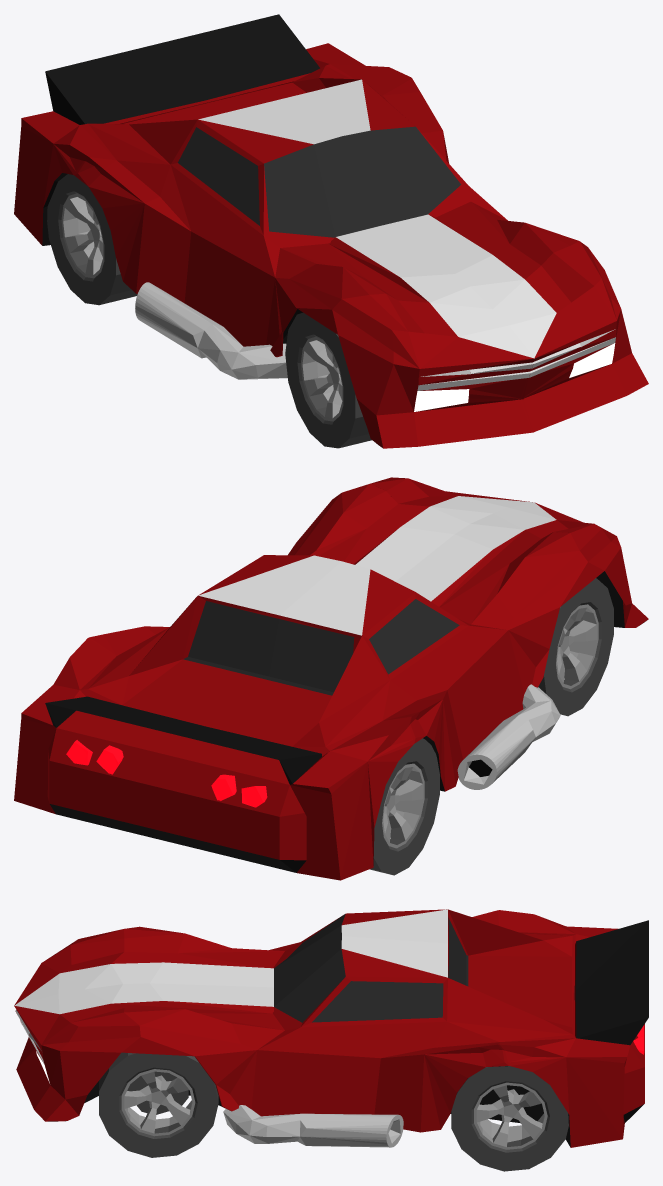
Rendered from corvette.glb.
3 views of the same model, one above another, from view 1: azimuth 30°, elevation 25°; view 2: azimuth 150°, elevation 25°; view 3: azimuth 270°, elevation 25° (orthographic). The views are drawn at different scales.
Visible parts, largest first — view 1: Cube, ruedas delanteras.002, ruedas delanteras.003; view 2: Cube, ruedas delanteras.002, ruedas delanteras.003; view 3: Cube, ruedas delanteras, ruedas delanteras.001.
Boxes of the visible parts, x1=… form: Cube: x1=14, y1=14, x2=648, y2=448; ruedas delanteras.002: x1=285, y1=312, x2=371, y2=448; ruedas delanteras.003: x1=47, y1=174, x2=137, y2=305; Cube: x1=14, y1=477, x2=648, y2=880; ruedas delanteras.002: x1=538, y1=578, x2=613, y2=716; ruedas delanteras.003: x1=369, y1=738, x2=439, y2=875; Cube: x1=14, y1=909, x2=648, y2=1147; ruedas delanteras: x1=99, y1=1052, x2=218, y2=1157; ruedas delanteras.001: x1=451, y1=1066, x2=568, y2=1171.
Bounding box in the file's own units: 2.49 × 1.3 × 4.45.
